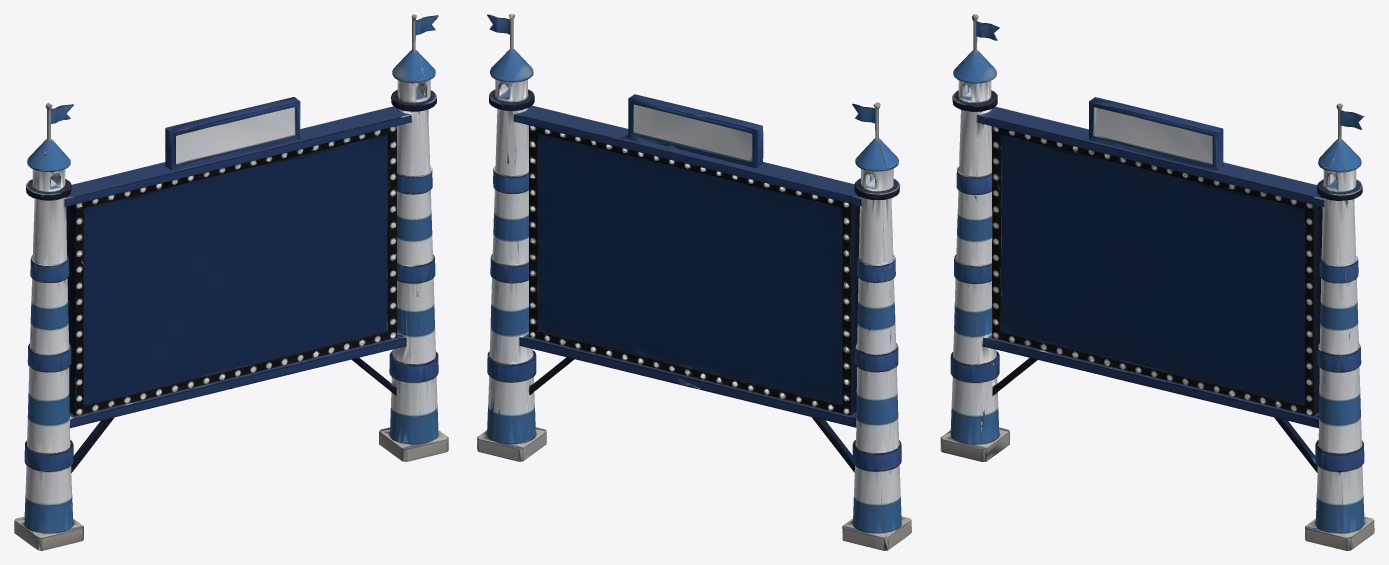
File: board_lo.glb
3 views of the same model, side by side, from view 1: azimuth 30°, elevation 25°; view 2: azimuth 150°, elevation 25°; view 3: azimuth 330°, elevation 25° (orthographic).
Bounding box in the file's own units: 1.89 × 1.9 × 0.2123.
Materials: 1 (1 with a texture image).
